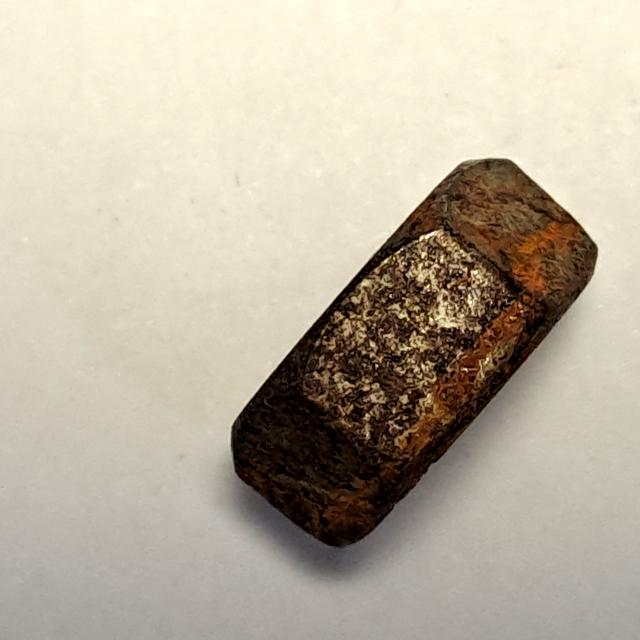Side_Rust: (214, 134, 619, 564)
